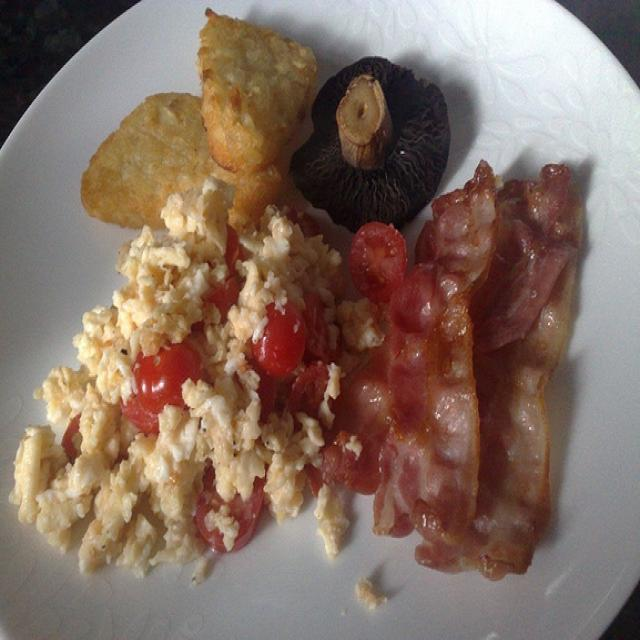鸡蛋料理: (24, 14, 624, 608)
